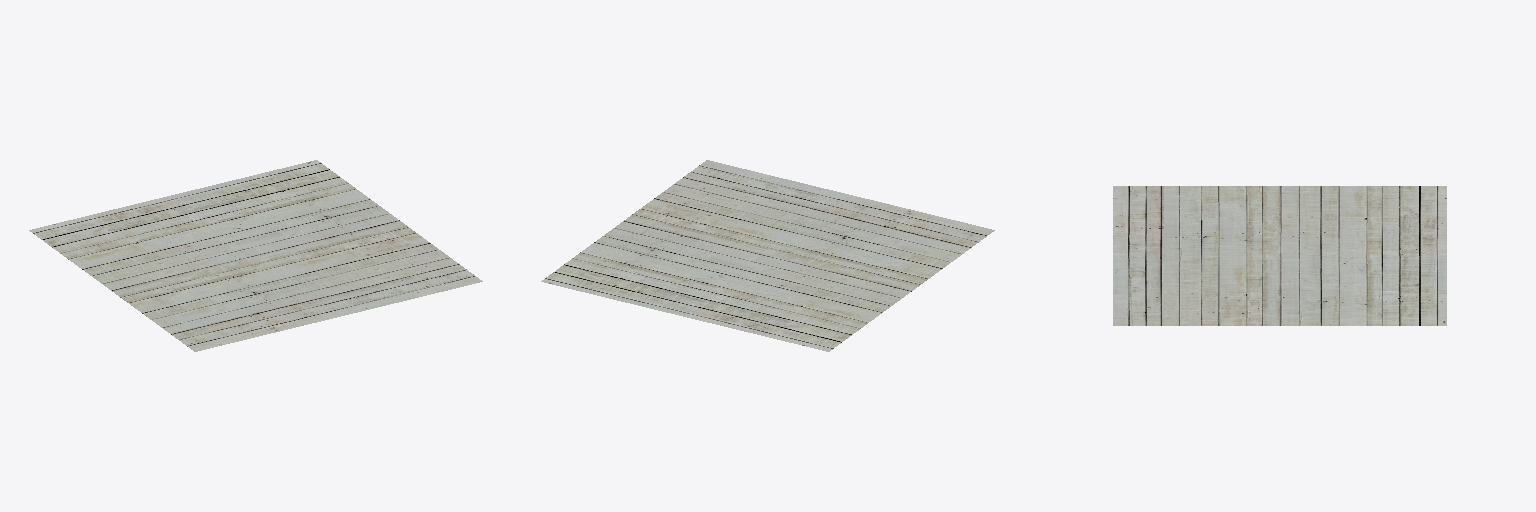
The picture shows the model from 3 angles: view 1: azimuth 30°, elevation 25°; view 2: azimuth 150°, elevation 25°; view 3: azimuth 270°, elevation 25°; orthographic projection.
Parts seen in each view (by area): view 1: cube3; view 2: cube3; view 3: cube3.
Boxes of the visible parts, x1=… form: cube3: x1=29, y1=160, x2=482, y2=351; cube3: x1=541, y1=160, x2=994, y2=351; cube3: x1=1113, y1=186, x2=1446, y2=325.
Bounding box in the file's own units: 50.69 × 0 × 50.69.
1 materials, 1 textured.